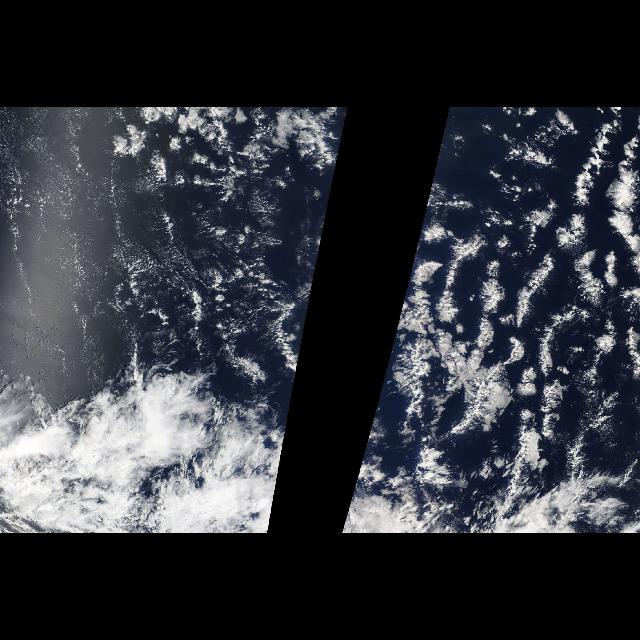Fish: (394, 112, 638, 454)
Flower: (409, 126, 639, 492)
Sugar: (1, 107, 180, 361)
